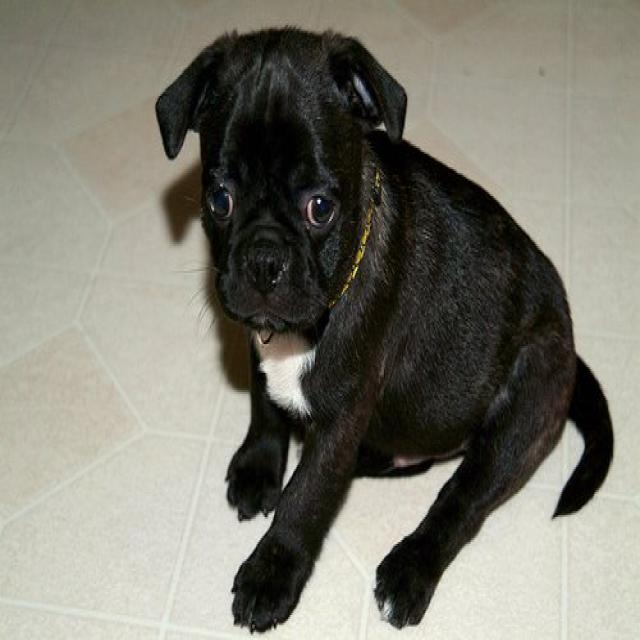dog: (123, 12, 420, 370)
